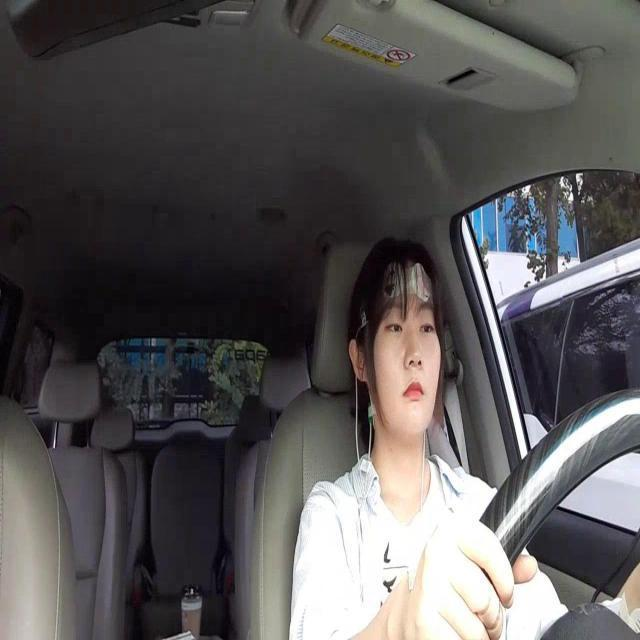Attentive: (349, 232, 442, 441)
